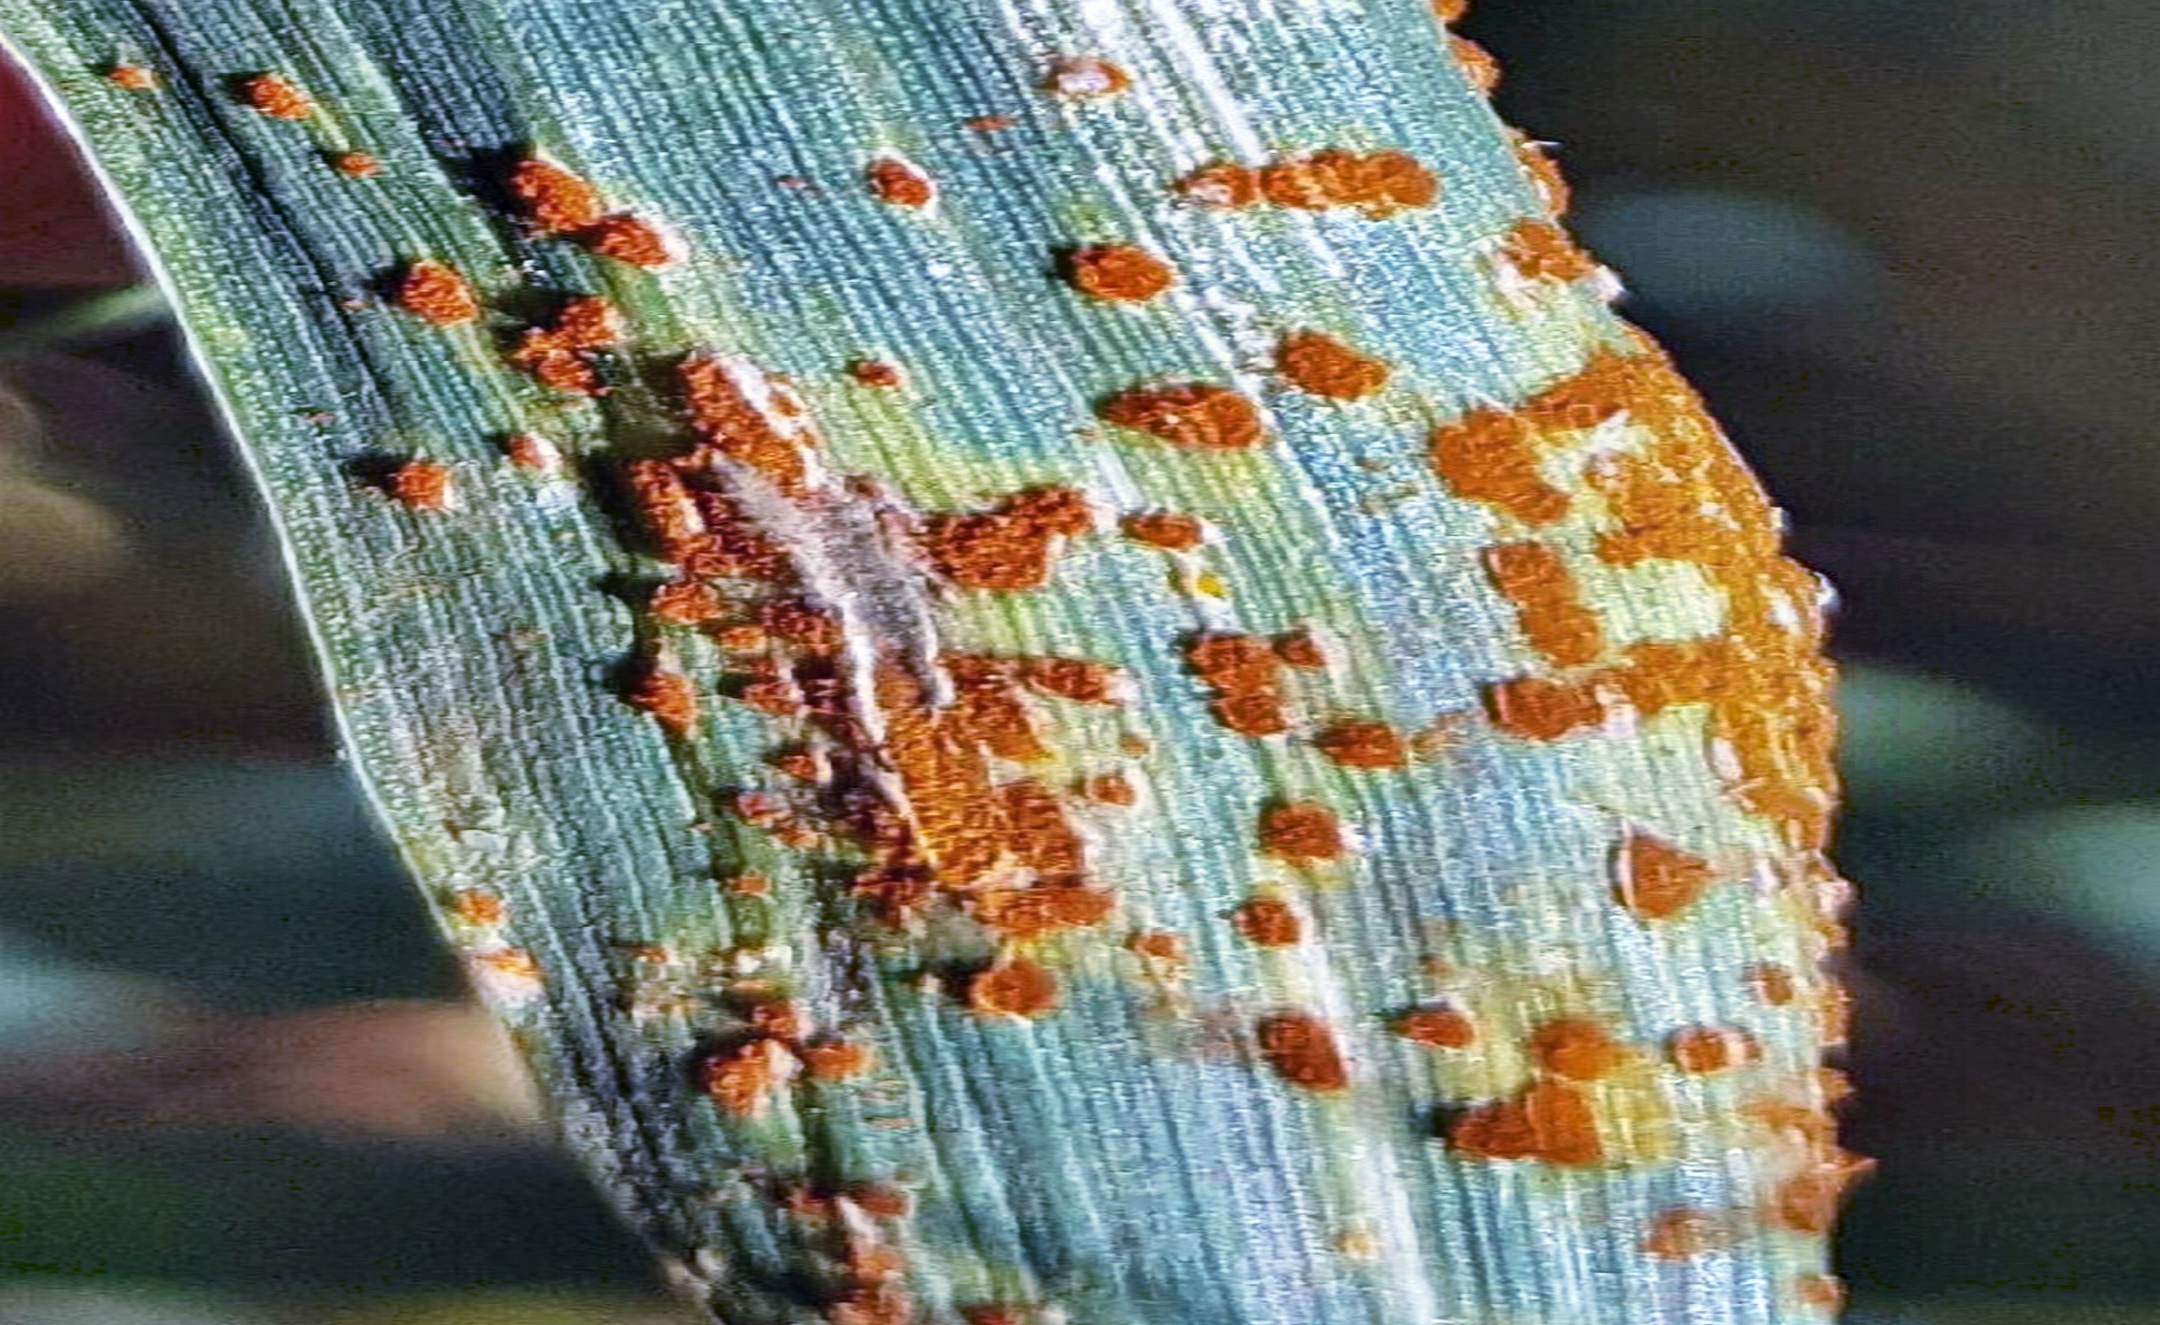Leaf Rust: (471, 139, 1865, 1208)
